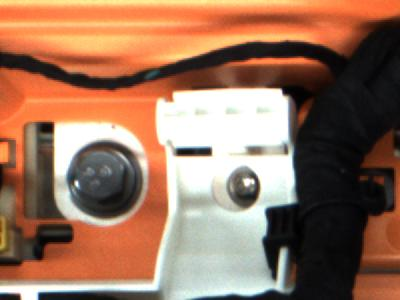nut_b: (61, 139, 144, 222)
screw_m: (222, 164, 263, 210)
